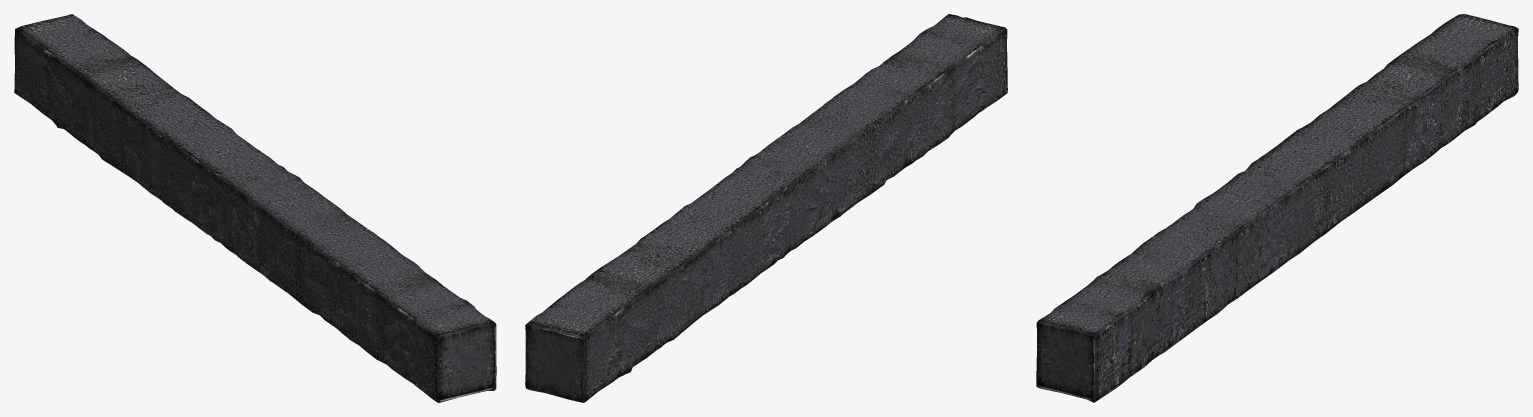
File: ARCH-BEAM-STEEL-lod0.glb
3 renders of one model, left to right at view 1: azimuth 30°, elevation 25°; view 2: azimuth 150°, elevation 25°; view 3: azimuth 330°, elevation 25°, orthographic.
Visible parts, largest first — view 1: tripo_node_e305d669-d398-4f31-bfd1-7dca6385a8ee; view 2: tripo_node_e305d669-d398-4f31-bfd1-7dca6385a8ee; view 3: tripo_node_e305d669-d398-4f31-bfd1-7dca6385a8ee.
Part boxes in pixels (bbox=[...]): tripo_node_e305d669-d398-4f31-bfd1-7dca6385a8ee: bbox=[14, 14, 496, 402]; tripo_node_e305d669-d398-4f31-bfd1-7dca6385a8ee: bbox=[525, 14, 1007, 402]; tripo_node_e305d669-d398-4f31-bfd1-7dca6385a8ee: bbox=[1036, 14, 1518, 402].
Size of the model in its own units: 0.0866 by 0.0916 by 1.
Materials: 1 (1 with a texture image).
